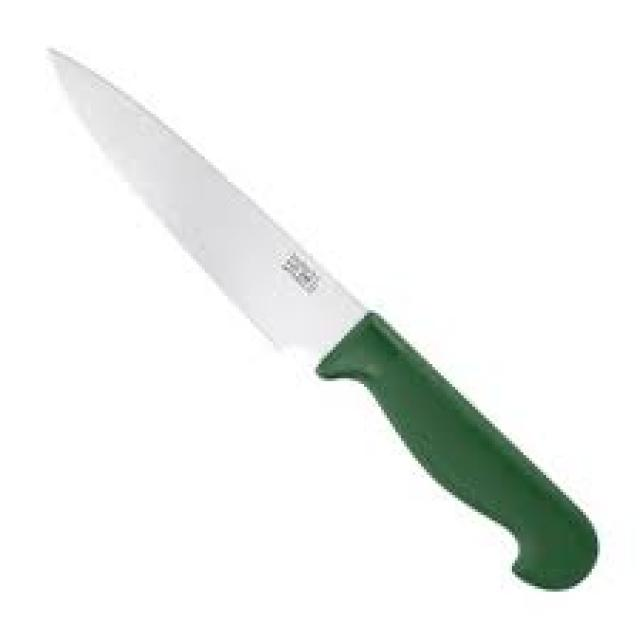knife: (45, 45, 603, 603)
